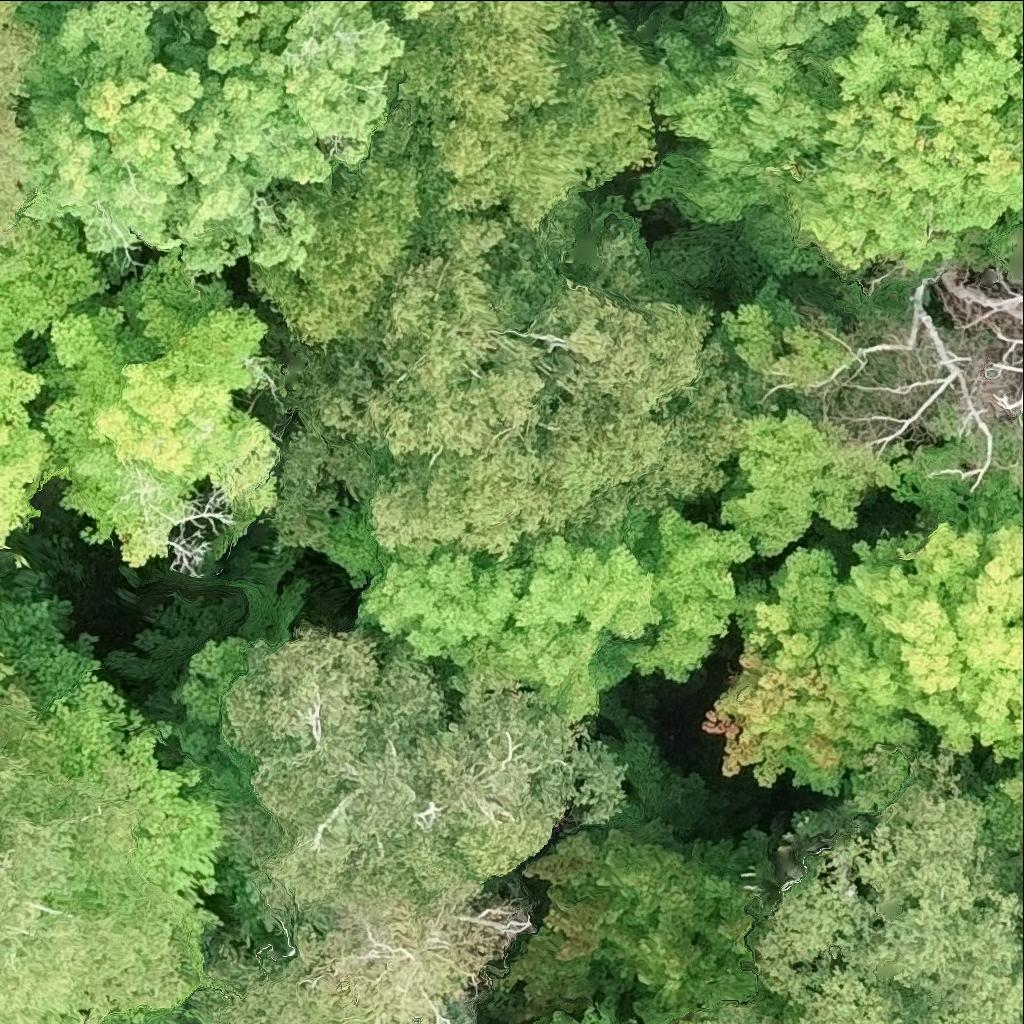crown: (275, 193, 779, 559), (218, 630, 621, 1023), (637, 0, 1023, 277), (0, 602, 223, 987), (25, 257, 286, 567), (740, 752, 1023, 1023), (0, 686, 199, 1023), (168, 0, 405, 275), (393, 0, 665, 227), (245, 83, 479, 345), (837, 440, 1023, 762), (358, 534, 668, 727), (700, 548, 917, 807), (488, 183, 715, 418), (798, 266, 1023, 491), (15, 0, 205, 253), (526, 830, 759, 1023), (0, 212, 134, 547), (713, 409, 902, 554), (630, 507, 755, 680), (142, 0, 312, 79), (718, 0, 895, 55), (0, 17, 41, 249), (315, 508, 433, 587), (898, 0, 1023, 42), (377, 0, 434, 21), (549, 1007, 614, 1023), (1012, 922, 1023, 975), (353, 0, 372, 7)
